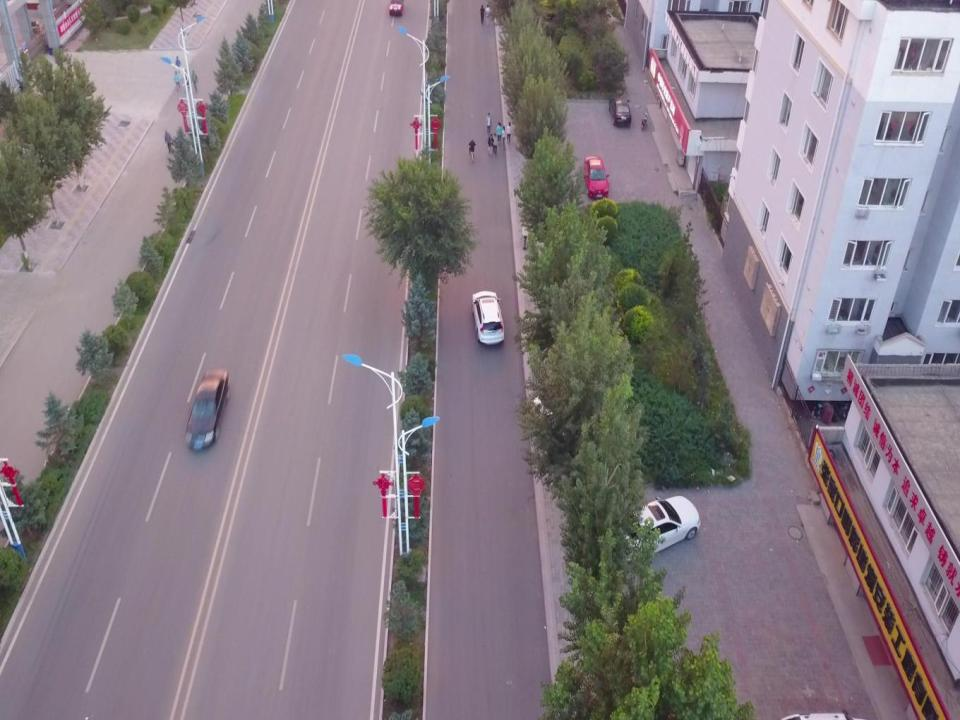car: (609, 495, 700, 565), (185, 366, 229, 451), (472, 289, 504, 346), (583, 155, 609, 199), (609, 97, 631, 126), (388, 0, 406, 17)
